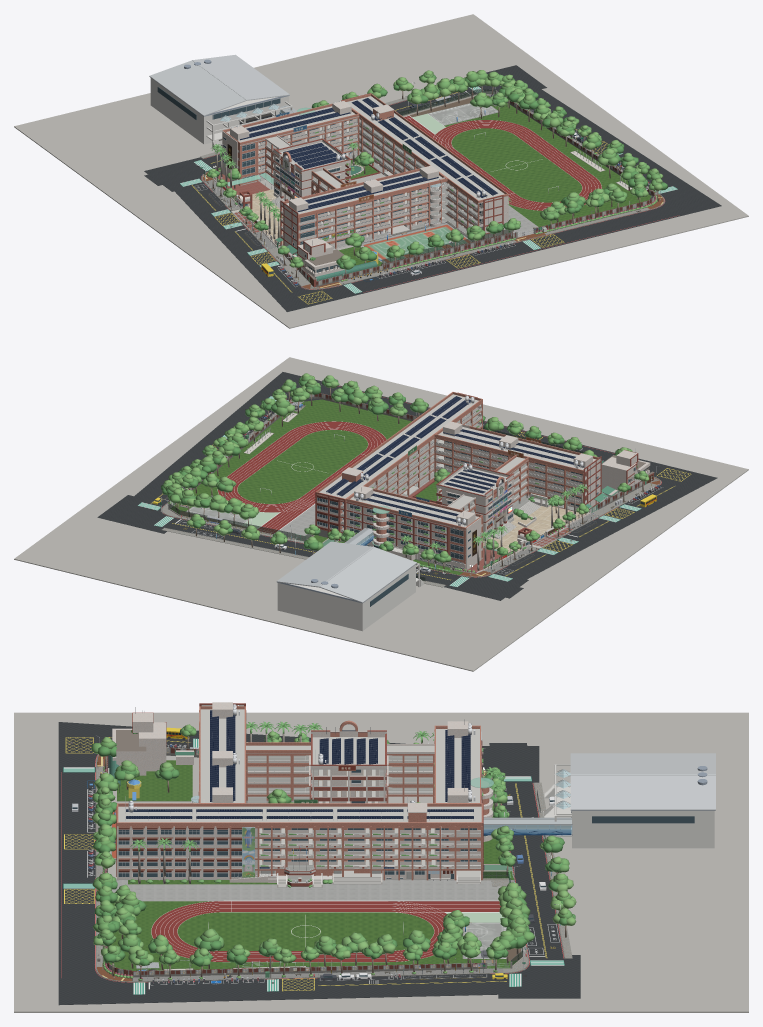
The model's file is cges_campus.glb.
3 views of the same model, one above another, from view 1: azimuth 30°, elevation 25°; view 2: azimuth 150°, elevation 25°; view 3: azimuth 270°, elevation 25° (orthographic). The views are drawn at different scales.
Visible parts, largest first — view 1: Base_SurroundingGround, Base_Roads_Asphalt, Zone_Courtyard_FoliageB, Zone_Track_InfieldGrass, Zone_Courtyard_FoliageC, Bldg_Gym_Roof, Zone_Courtyard_Lawns, Zone_Track_PU, Bldg_Gym_Walls, Bldg_Chongqing_Walls, Zone_Courtyard_FoliageA, Bldg_Wuquan_Slabs (+32 smaller); view 2: Base_SurroundingGround, Base_Roads_Asphalt, Zone_Courtyard_FoliageB, Zone_Track_InfieldGrass, Bldg_Gym_Roof, Zone_Courtyard_FoliageC, Zone_Courtyard_Lawns, Bldg_Gym_Walls, Zone_Track_PU, Zone_Courtyard_FoliageA, Bldg_Wuquan_Slabs, Bldg_Chongqing_Walls (+36 smaller); view 3: Base_SurroundingGround, Base_Roads_Asphalt, Zone_Courtyard_FoliageB, Bldg_Wuquan_Walls, Bldg_Gym_Roof, Zone_Track_InfieldGrass, Zone_Courtyard_FoliageC, Zone_Track_EastWalkway, Bldg_Wuquan_Slabs, Zone_Courtyard_Lawns, Zone_Track_PU, Bldg_Gym_Walls (+45 smaller).
Part boxes in pixels (left/top/right/bottom): Base_SurroundingGround: left=14, top=14, right=748, bottom=328; Base_Roads_Asphalt: left=144, top=65, right=721, bottom=311; Zone_Courtyard_FoliageB: left=206, top=71, right=661, bottom=269; Zone_Track_InfieldGrass: left=451, top=128, right=581, bottom=202; Zone_Courtyard_FoliageC: left=210, top=70, right=663, bottom=281; Bldg_Gym_Roof: left=149, top=54, right=289, bottom=116; Zone_Courtyard_Lawns: left=218, top=95, right=651, bottom=273; Zone_Track_PU: left=404, top=116, right=601, bottom=210; Bldg_Gym_Walls: left=150, top=78, right=292, bottom=151; Bldg_Chongqing_Walls: left=281, top=168, right=447, bottom=248; Zone_Courtyard_FoliageA: left=209, top=74, right=667, bottom=268; Bldg_Wuquan_Slabs: left=346, top=96, right=508, bottom=234; Base_SurroundingGround: left=14, top=357, right=748, bottom=671; Base_Roads_Asphalt: left=97, top=372, right=717, bottom=600; Zone_Courtyard_FoliageB: left=163, top=376, right=648, bottom=568; Zone_Track_InfieldGrass: left=237, top=430, right=367, bottom=503; Bldg_Gym_Roof: left=276, top=541, right=416, bottom=602; Zone_Courtyard_FoliageC: left=164, top=373, right=649, bottom=572; Zone_Courtyard_Lawns: left=171, top=399, right=602, bottom=574; Bldg_Gym_Walls: left=277, top=563, right=424, bottom=631; Zone_Track_PU: left=218, top=421, right=386, bottom=533; Zone_Courtyard_FoliageA: left=161, top=377, right=630, bottom=572; Bldg_Wuquan_Slabs: left=319, top=394, right=482, bottom=541; Bldg_Chongqing_Walls: left=434, top=424, right=598, bottom=508; Base_SurroundingGround: left=14, top=712, right=748, bottom=1012; Base_Roads_Asphalt: left=58, top=722, right=580, bottom=1005; Zone_Courtyard_FoliageB: left=91, top=726, right=572, bottom=980; Bldg_Wuquan_Walls: left=117, top=803, right=482, bottom=880; Bldg_Gym_Roof: left=570, top=753, right=715, bottom=810; Zone_Track_InfieldGrass: left=177, top=912, right=434, bottom=950; Zone_Courtyard_FoliageC: left=91, top=724, right=576, bottom=979; Zone_Track_EastWalkway: left=112, top=880, right=506, bottom=901; Bldg_Wuquan_Slabs: left=118, top=806, right=481, bottom=879; Zone_Courtyard_Lawns: left=109, top=760, right=516, bottom=970; Zone_Track_PU: left=151, top=901, right=500, bottom=961; Bldg_Gym_Walls: left=544, top=764, right=714, bottom=848.
Size of the model in its own units: 206 by 23.34 by 214.
172 materials, 93 textured.
